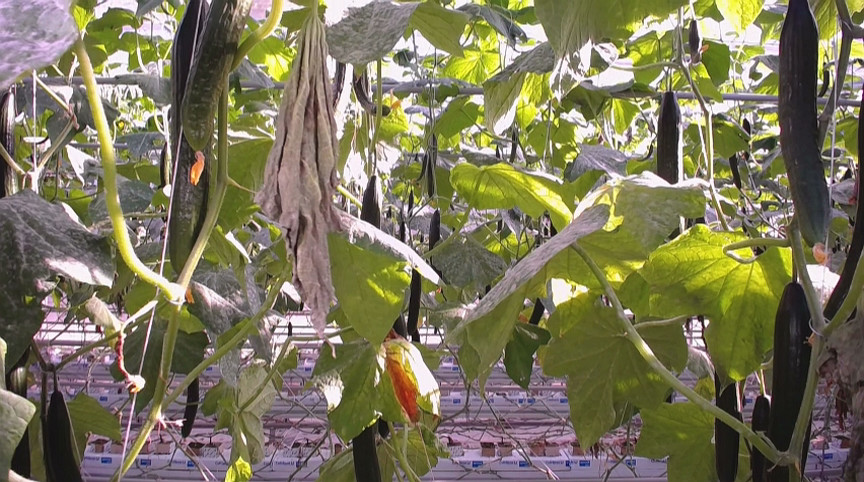cucumber: (777, 1, 830, 247), (171, 4, 210, 270), (183, 1, 248, 151), (770, 284, 808, 469), (710, 367, 742, 481), (45, 394, 86, 482), (654, 90, 685, 181), (351, 422, 380, 482), (179, 378, 204, 441), (360, 176, 385, 230)
